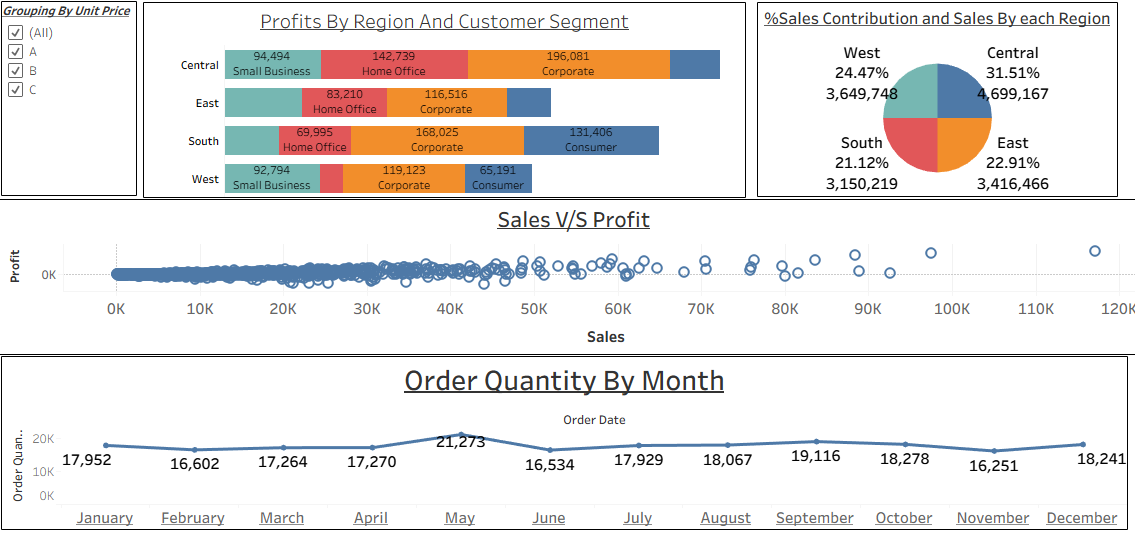

Layout of this report page (visuals, bound fields, positions):
{"tool":"tableau","page":{"name":"Dashboard 2","canvas":[1000,1000],"units":"permille","ordinal":1},"visuals":[{"type":"worksheet","title":"Pie Chart","mark":"Pie","box":[621.3,42.9,298.4,355.4]},{"type":"filter","title":"Line Chart","param":"[federated.0ava1ag1sfp2vk1g84zzq1hidxev].[none:Calculation_739153304107094016:nk","box":[4.1,48.2,111.5,348.2]},{"type":"worksheet","title":"Bar Chart","mark":"Automatic","rows":["Region"],"cols":["Profit"],"box":[120.5,50,494.3,350]},{"type":"worksheet","title":"Scatter Plot","mark":"Automatic","rows":["Profit"],"cols":["Sales"],"box":[1.6,401.8,944.3,278.6]},{"type":"worksheet","title":"Line Chart","mark":"Automatic","rows":["Order Quantity"],"cols":["Order Date"],"box":[4.1,682.1,923.8,310.7]}]}

Visuals, with their boxes on the dashboard's canvas, which has no fixed pixel size, in thousandths of its width and height (x1, y1, x2, y2). These are canvas units, not pixel positions in the 1136x534 screenshot, which may show the page scaled, cropped or inside an application window:
"Pie Chart" worksheet (Pie marks): 621,43,920,398
"Line Chart" filter: 4,48,116,396
"Bar Chart" worksheet: 120,50,615,400
"Scatter Plot" worksheet: 2,402,946,680
"Line Chart" worksheet: 4,682,928,993
